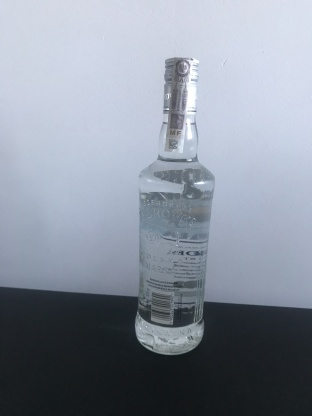nakretka: (160, 53, 201, 117)
